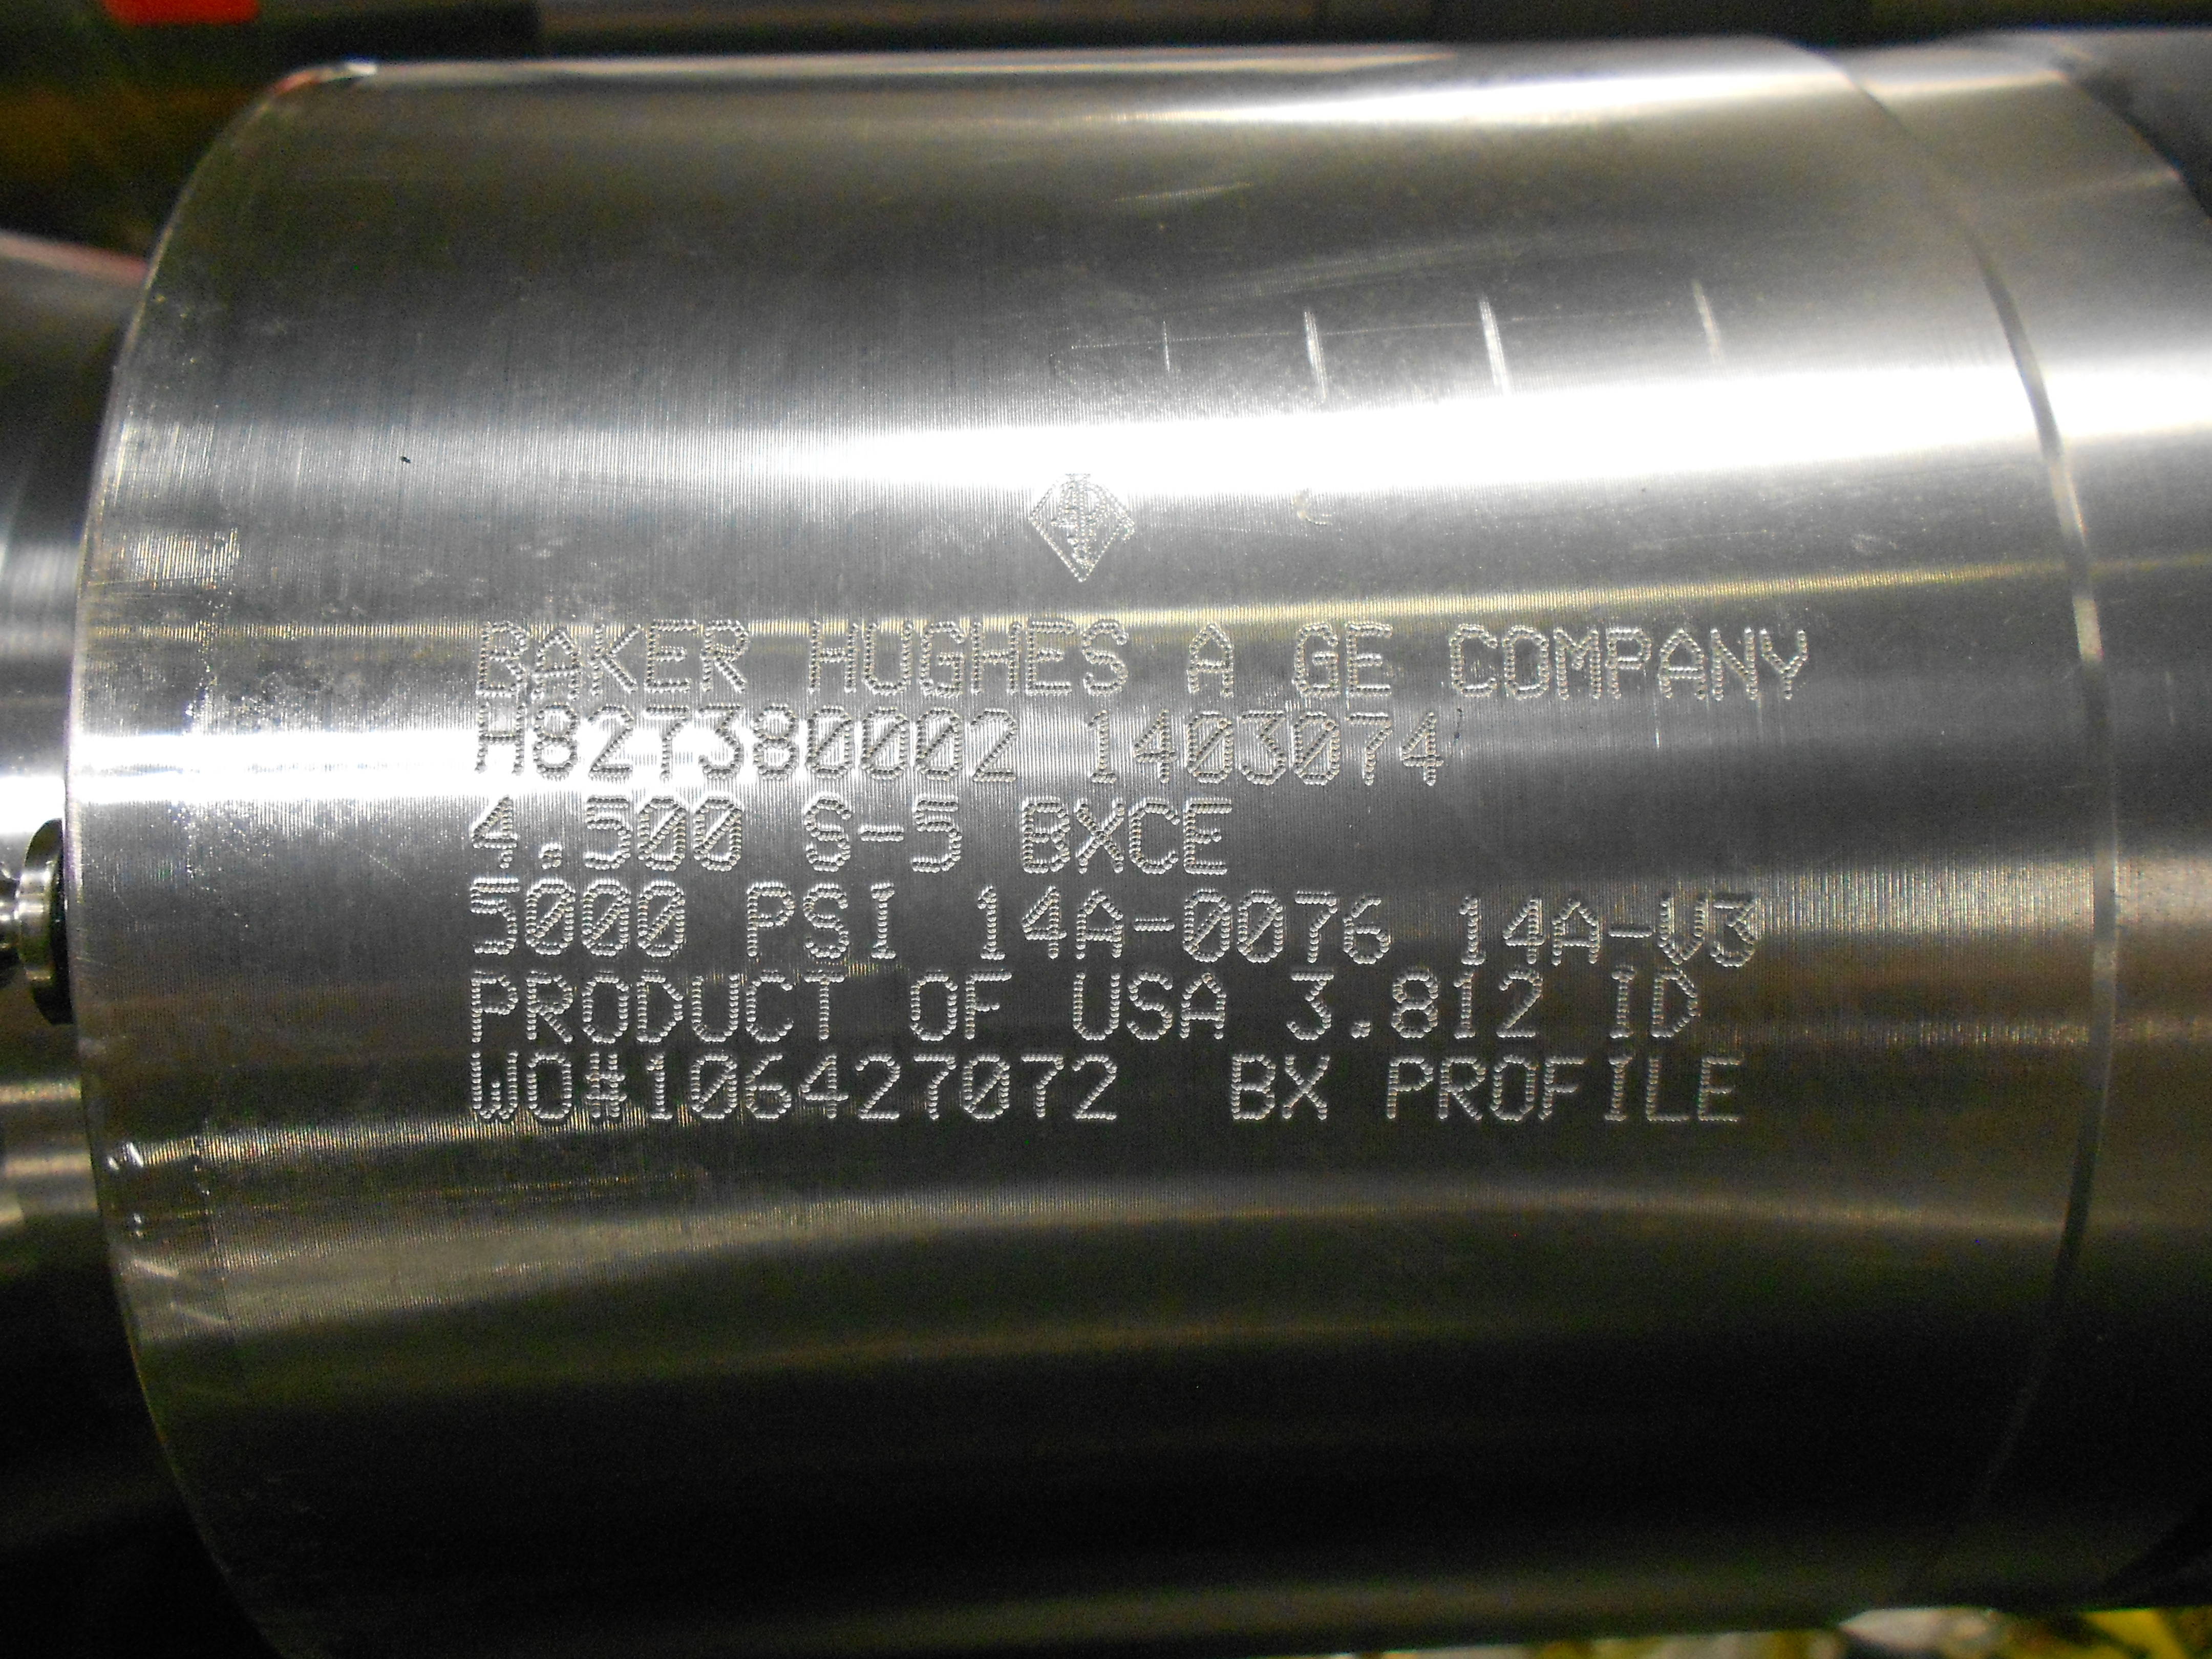character: (913, 615, 970, 702), (643, 615, 700, 701), (697, 613, 754, 699), (805, 617, 862, 702), (860, 613, 918, 699), (967, 615, 1024, 701), (967, 702, 1024, 788), (913, 701, 970, 786), (467, 788, 524, 871), (470, 615, 526, 701), (528, 619, 583, 704), (589, 617, 644, 702), (1022, 615, 1078, 701), (1078, 613, 1134, 699), (1707, 887, 1763, 972), (859, 702, 916, 784), (749, 697, 806, 779), (695, 699, 752, 781), (583, 699, 641, 781), (578, 791, 636, 873), (632, 791, 690, 873), (690, 791, 747, 873), (798, 793, 855, 875), (521, 875, 578, 957), (577, 877, 634, 958), (1017, 793, 1075, 875), (1071, 793, 1129, 875), (1181, 620, 1238, 702), (1285, 620, 1343, 702), (1338, 617, 1395, 699), (1343, 708, 1400, 789), (1289, 708, 1346, 789), (1238, 708, 1296, 789), (1181, 704, 1238, 786), (1014, 878, 1071, 960), (1177, 882, 1235, 964), (1338, 885, 1395, 967), (803, 699, 859, 781), (643, 699, 698, 781), (474, 697, 529, 779), (528, 697, 583, 779), (907, 793, 963, 875), (467, 877, 523, 958), (632, 878, 688, 960), (740, 880, 796, 962), (798, 880, 853, 962), (1123, 795, 1179, 877), (1183, 795, 1238, 877), (1397, 708, 1453, 789), (1127, 706, 1183, 788), (1073, 882, 1129, 964), (1233, 887, 1289, 969), (1655, 885, 1710, 967), (1069, 965, 1125, 1046), (1446, 620, 1501, 699), (1550, 887, 1602, 971), (631, 967, 686, 1046), (961, 967, 1017, 1046), (853, 1049, 907, 1129), (742, 1047, 796, 1127), (688, 1049, 742, 1129), (467, 1044, 521, 1124), (580, 964, 634, 1044), (798, 965, 852, 1046), (1501, 620, 1552, 706), (1552, 622, 1604, 704), (960, 1047, 1014, 1126), (907, 1047, 961, 1126), (796, 1051, 850, 1129), (524, 1047, 578, 1126), (467, 967, 521, 1046), (524, 964, 578, 1042), (578, 1046, 632, 1124), (688, 965, 742, 1044), (742, 967, 796, 1046), (907, 969, 961, 1047), (1125, 965, 1179, 1044), (1177, 965, 1231, 1044), (1289, 887, 1341, 967), (1641, 1049, 1693, 1129), (1280, 1047, 1332, 1127), (1228, 1047, 1280, 1127), (1017, 1046, 1069, 1126), (1604, 622, 1655, 704), (1656, 624, 1707, 706), (1709, 622, 1759, 704), (1757, 622, 1808, 704), (1390, 962, 1440, 1044), (1285, 967, 1336, 1049), (1068, 1047, 1120, 1126), (1501, 887, 1550, 969), (1651, 958, 1700, 1040), (1496, 962, 1545, 1044), (1698, 1047, 1747, 1127), (1437, 1051, 1487, 1126), (1489, 1049, 1538, 1124), (1386, 1051, 1435, 1126), (1080, 704, 1125, 784), (1540, 1053, 1587, 1126), (864, 880, 904, 962), (1451, 890, 1489, 969), (972, 882, 1008, 964), (1446, 965, 1480, 1047), (639, 1047, 674, 1124), (1601, 1053, 1634, 1124), (1606, 960, 1634, 1044), (1602, 918, 1655, 945), (855, 821, 907, 845), (533, 840, 571, 873), (1130, 913, 1176, 934), (1343, 1019, 1376, 1044)
